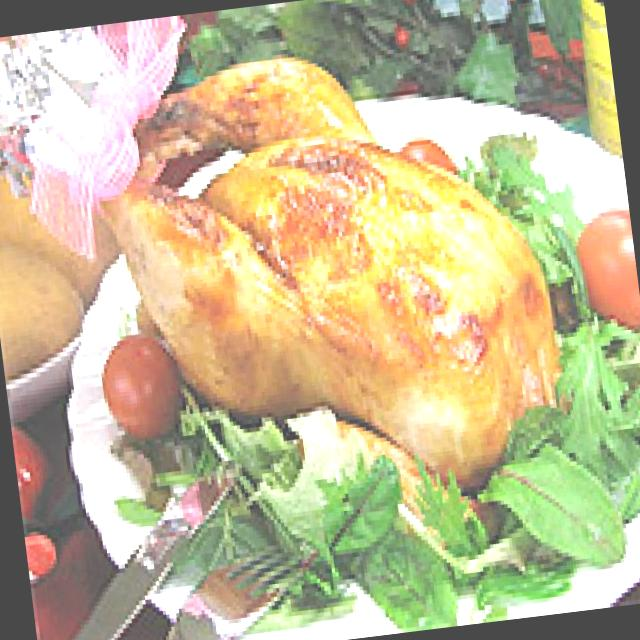Chicken: (113, 45, 565, 473)
